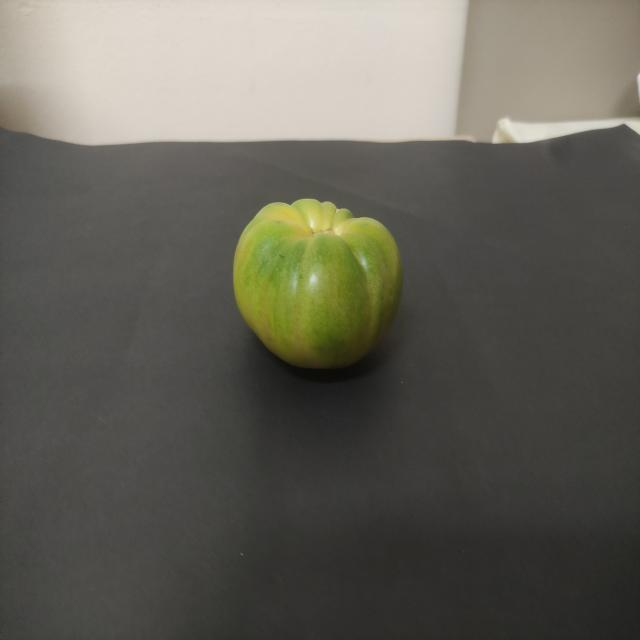yesil: (231, 186, 426, 378)
